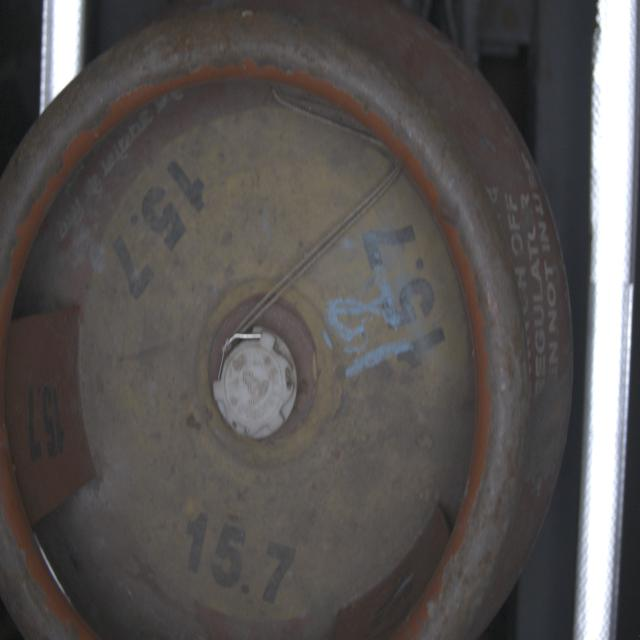Cap: (211, 322, 300, 443)
